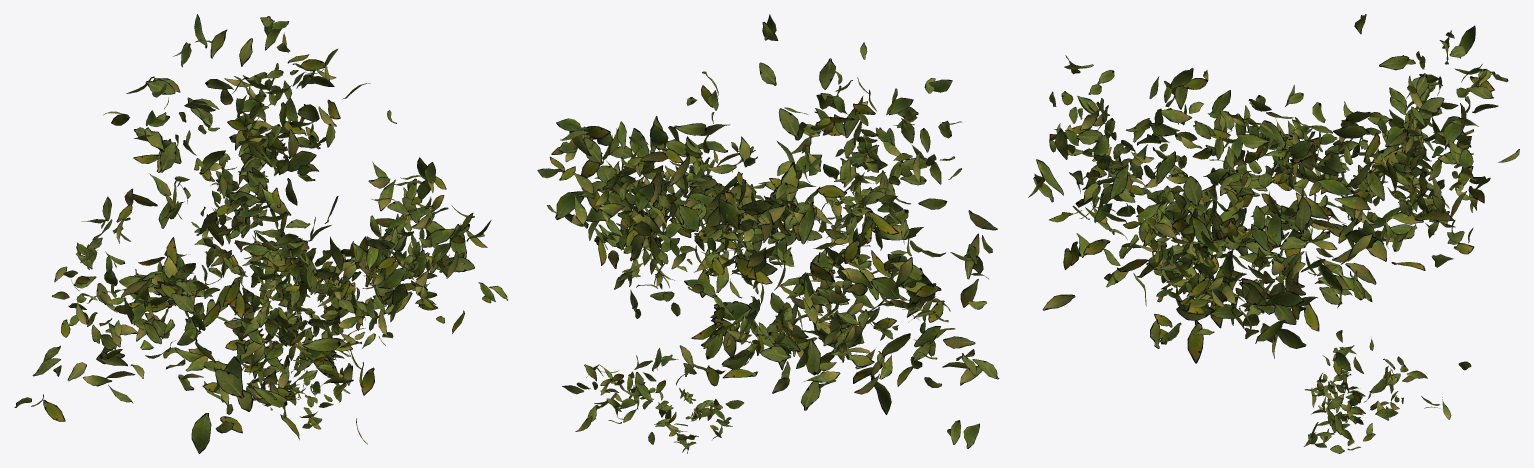
Rendered from island_tree_01_leaf.glb.
3 renders of one model, left to right at view 1: azimuth 30°, elevation 25°; view 2: azimuth 150°, elevation 25°; view 3: azimuth 270°, elevation 25°, orthographic. The views are drawn at different scales.
Visible parts, largest first — view 1: island_tree_01_LOD0; view 2: island_tree_01_LOD0; view 3: island_tree_01_LOD0.
Part boxes in pixels (box(x1,y1,x2,y2)): island_tree_01_LOD0: box(14, 14, 507, 453); island_tree_01_LOD0: box(537, 14, 999, 453); island_tree_01_LOD0: box(1028, 14, 1519, 453).
Size of the model in its own units: 4.79 by 4.17 by 4.47.
Materials: 1 (1 with a texture image).
